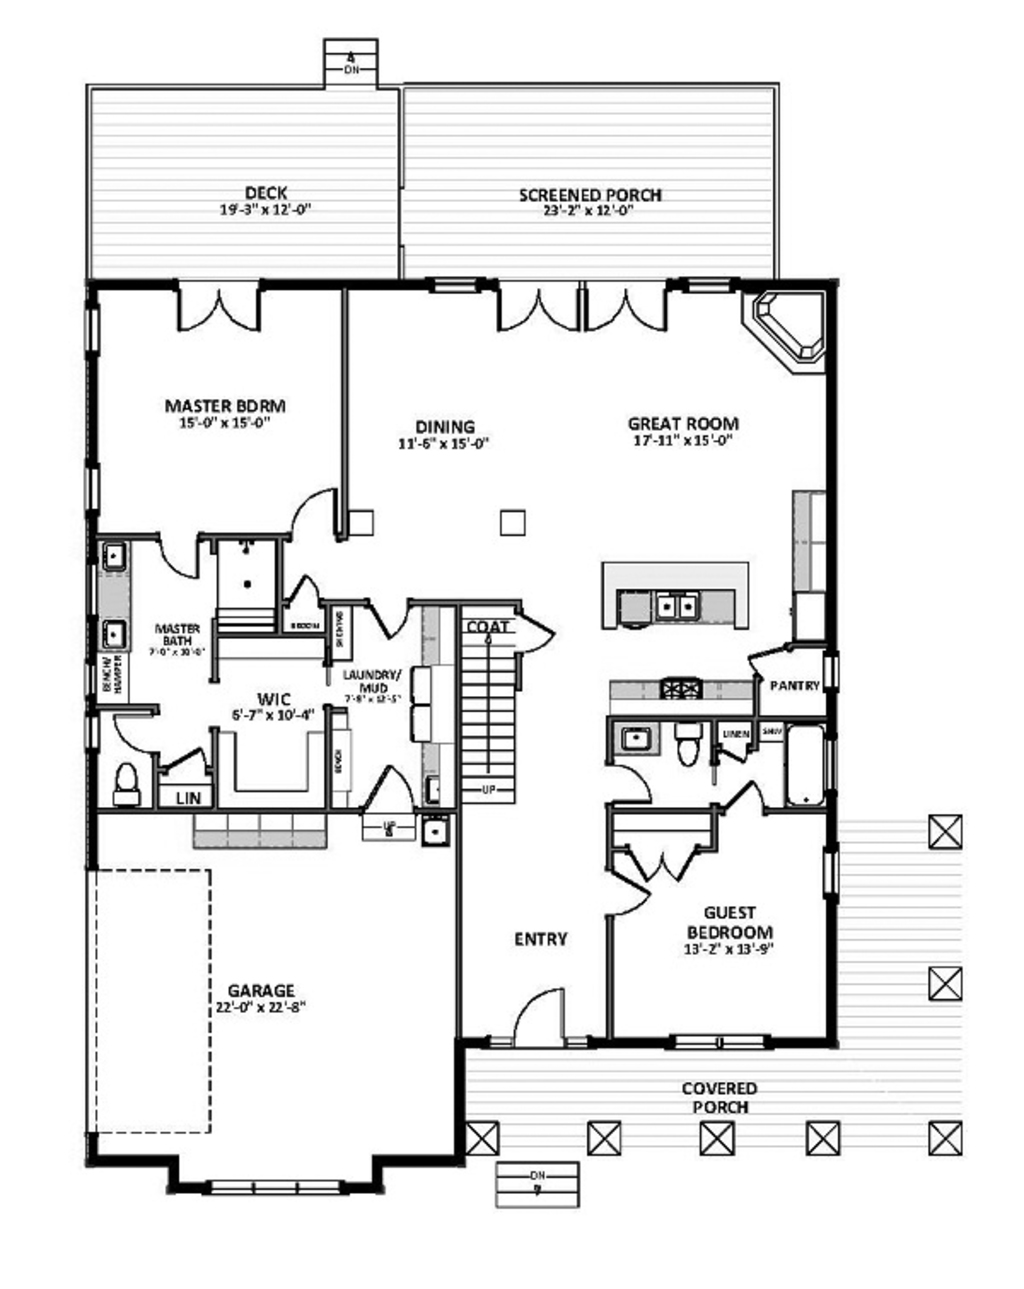door: (172, 273, 270, 341), (494, 273, 584, 337), (586, 269, 666, 337), (508, 987, 568, 1051), (628, 839, 695, 887), (596, 861, 648, 919), (288, 485, 340, 541), (358, 767, 424, 811), (154, 535, 210, 585), (364, 597, 410, 644), (158, 747, 212, 787), (718, 783, 774, 819), (116, 707, 160, 753), (286, 573, 332, 615), (602, 763, 650, 802), (514, 615, 556, 657), (746, 639, 796, 673), (720, 741, 760, 761)
large_sink: (98, 757, 146, 811), (668, 725, 704, 771)
small_sink: (88, 539, 134, 651), (610, 715, 668, 757)
stairs: (446, 597, 524, 799)
tub: (788, 711, 826, 802)
twin_sink: (642, 587, 714, 631)
window: (208, 1171, 348, 1195), (672, 1027, 768, 1057), (74, 301, 110, 374), (814, 845, 852, 895), (82, 455, 110, 513)
